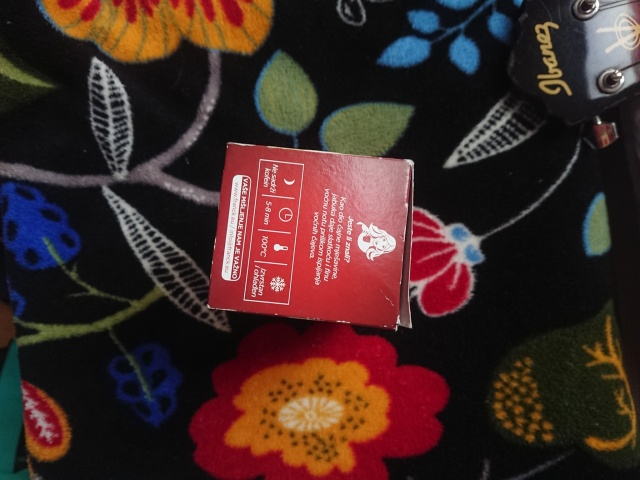Franck Apple Cinnamon Tea 60g: (205, 139, 416, 333)
